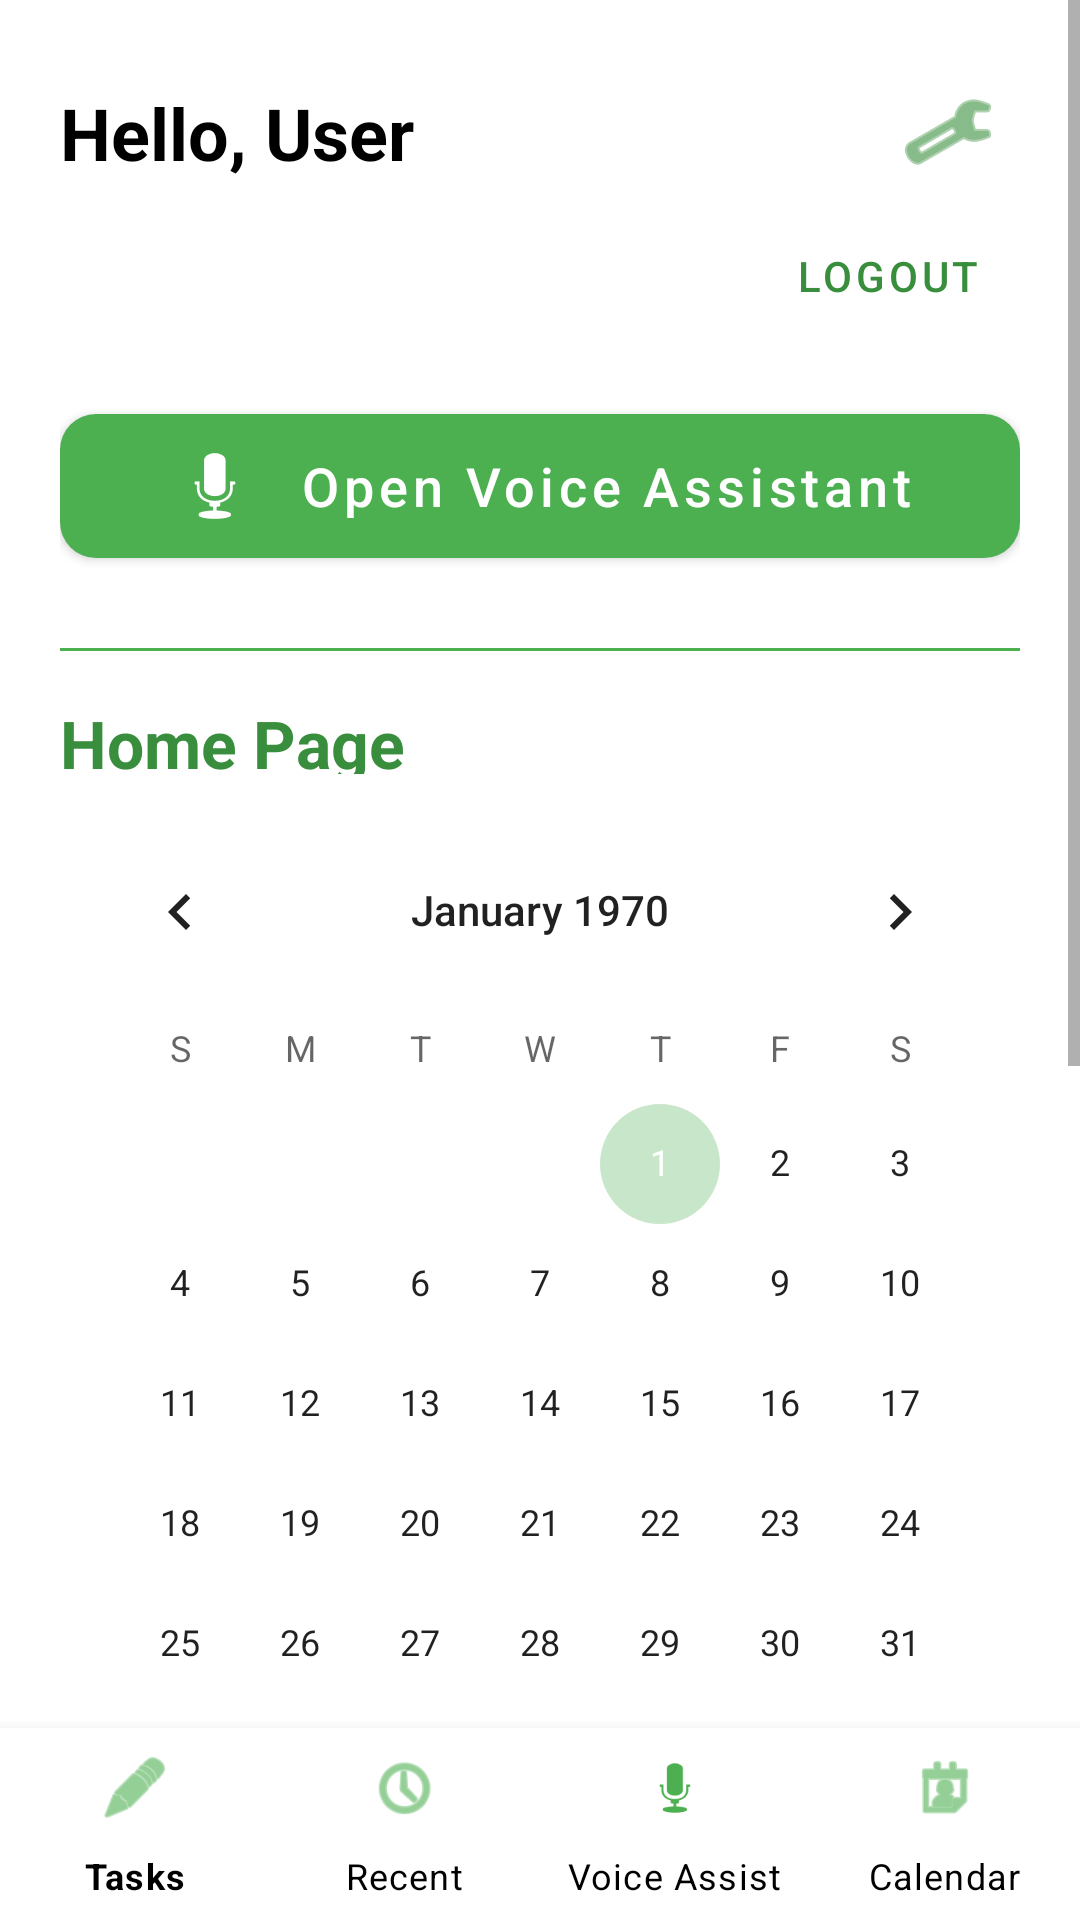

Icons on this 1080 × 1920 Android screen, each with the point to tap as [x,y]:
Theme Settings: [948,132]
